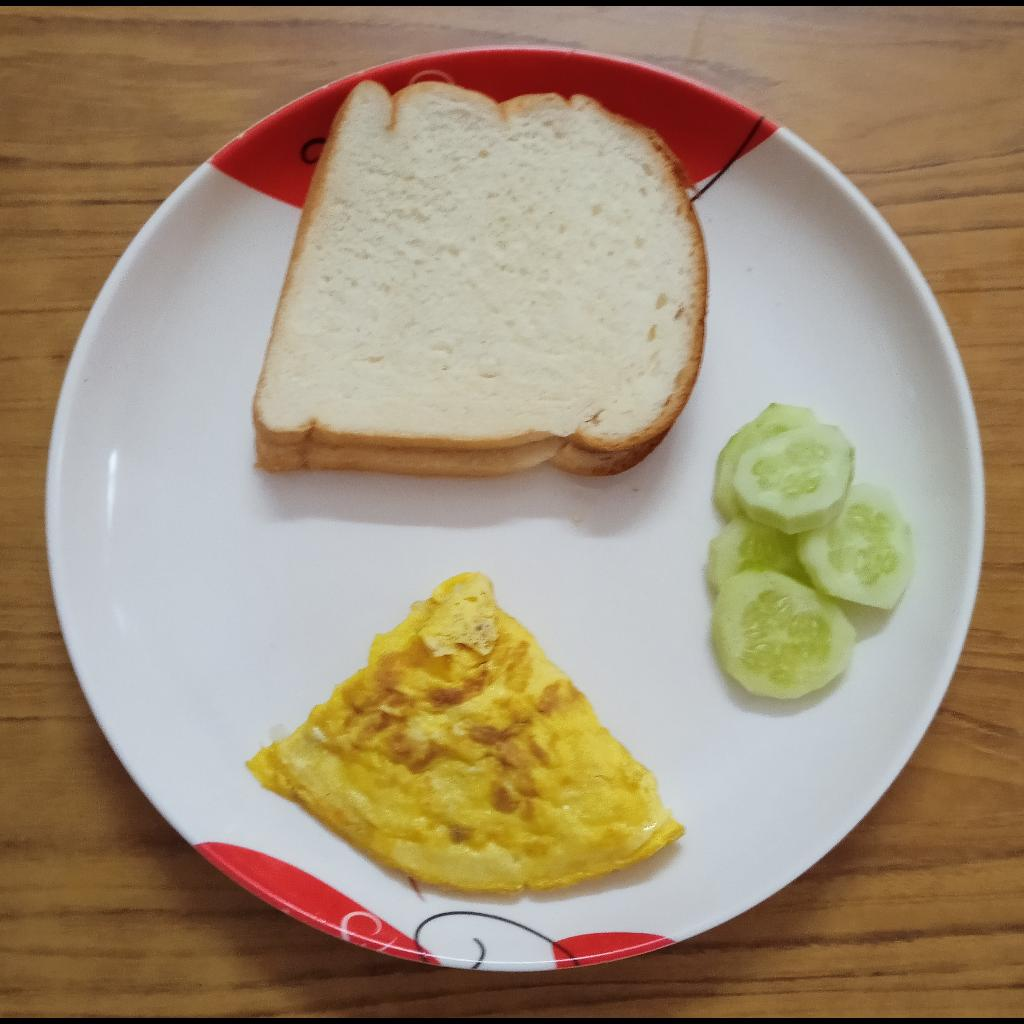bread: (250, 74, 713, 479)
cucumber: (702, 400, 924, 701)
egg-poached: (245, 571, 687, 896)
